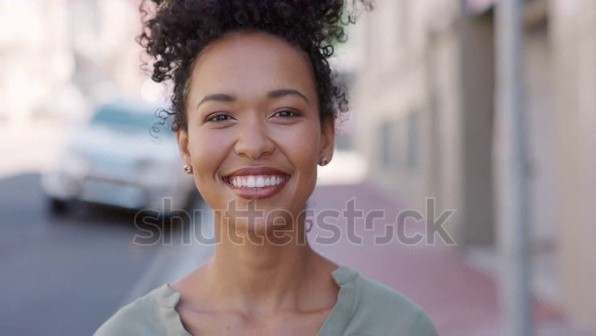No Mask: (181, 143, 339, 226)
